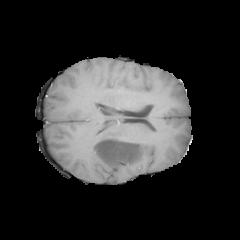glioma: (90, 79, 152, 170)
